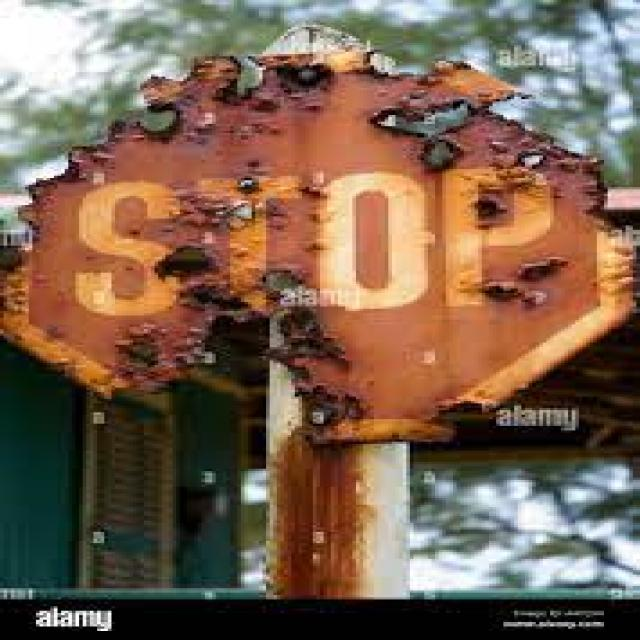stop-sign: (34, 93, 640, 382)
